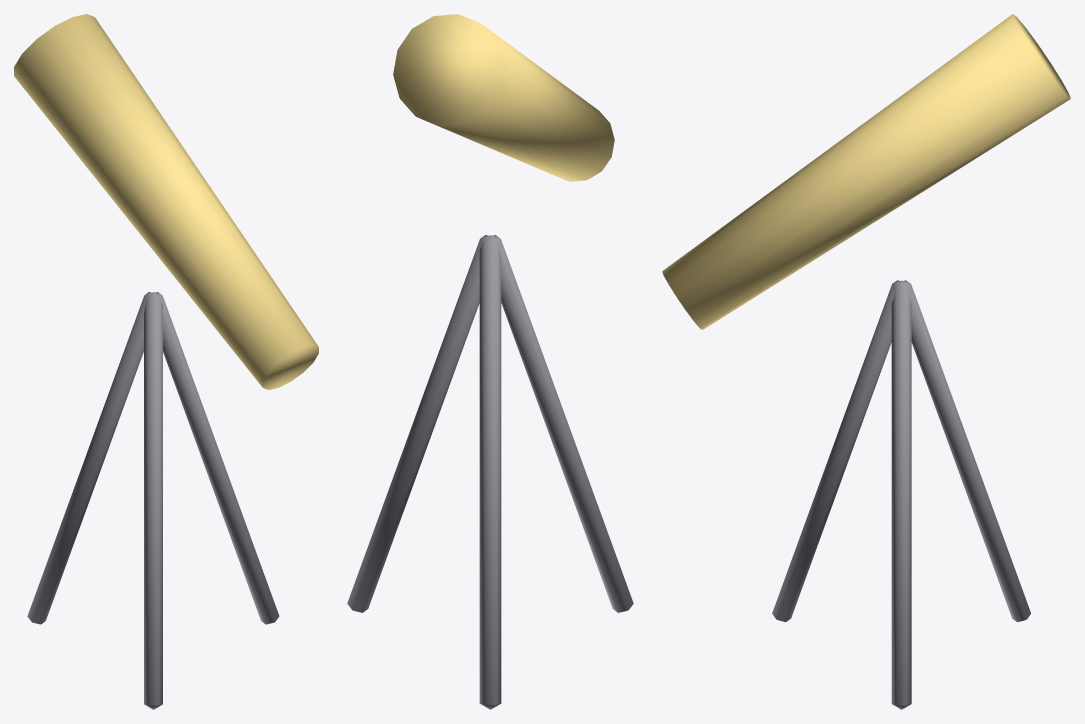
File: telescope.glb
The picture shows the model from 3 angles, left to right: view 1: azimuth 30°, elevation 25°; view 2: azimuth 150°, elevation 25°; view 3: azimuth 270°, elevation 25°; orthographic projection. The views are drawn at different scales.
Parts seen in each view (by area): view 1: telescope; view 2: telescope; view 3: telescope.
Part boxes in pixels (x1=…): telescope: x1=14, y1=14, x2=318, y2=709; telescope: x1=347, y1=14, x2=633, y2=709; telescope: x1=662, y1=14, x2=1070, y2=709.
Size of the model in its own units: 0.5897 by 1.72 by 1.03.
